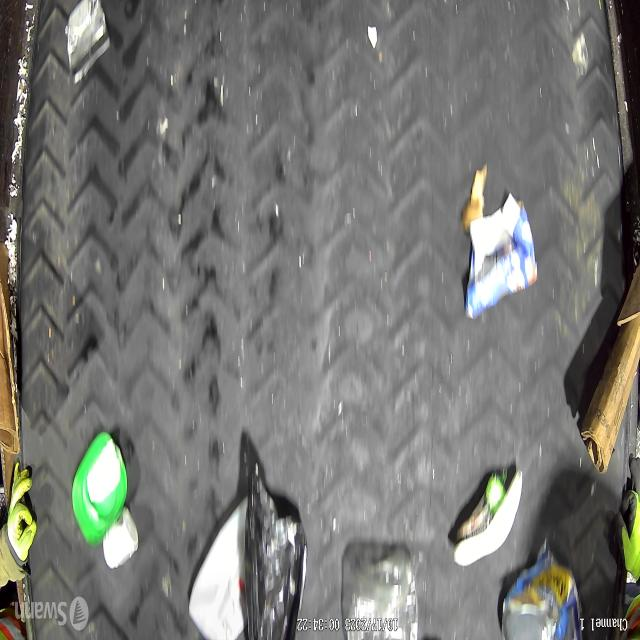can: (67, 0, 110, 83)
milk_jug: (187, 496, 248, 640)
